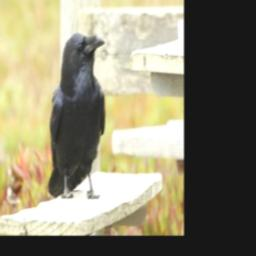Crow: (48, 31, 107, 199)
